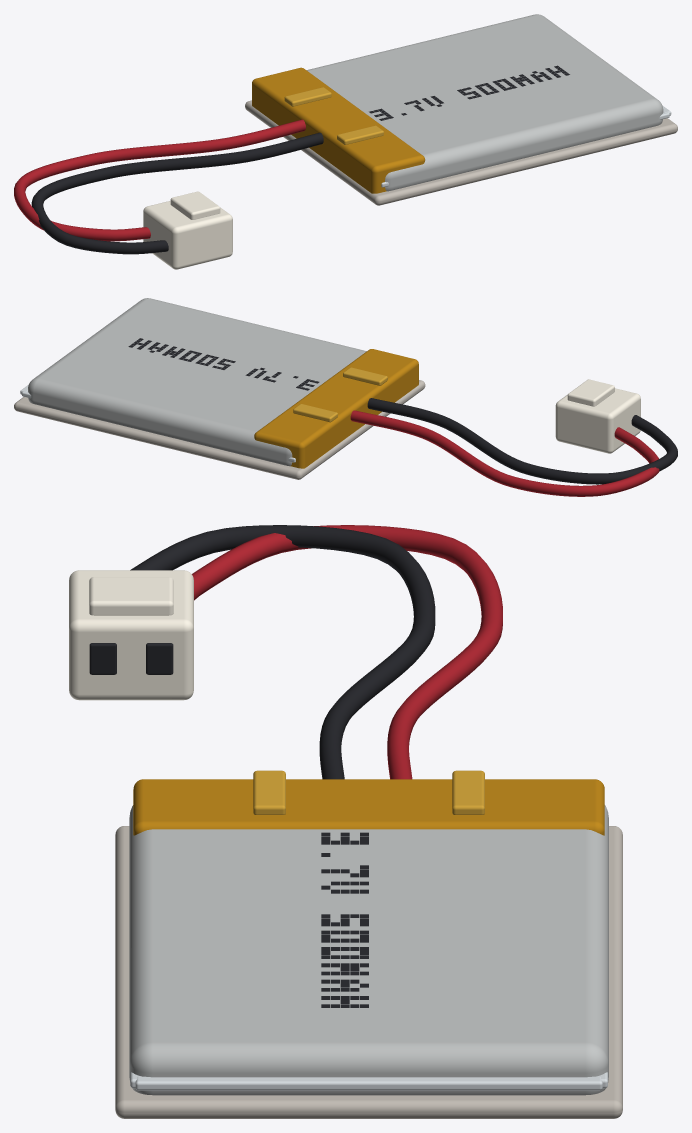
Rendered from components-28.glb.
The picture shows the model from 3 angles, top to bottom: view 1: azimuth 30°, elevation 25°; view 2: azimuth 150°, elevation 25°; view 3: azimuth 270°, elevation 25°; orthographic projection. The views are drawn at different scales.
Visible parts, largest first — view 1: pouch, leads, tabs, plug, rating; view 2: pouch, leads, tabs, plug, rating; view 3: pouch, tabs, leads, plug, rating.
Part boxes in pixels (x1,y1,x2,y2): pouch: (245,14,677,205); leads: (14,119,323,254); tabs: (252,67,425,193); plug: (143,191,232,269); rating: (369,65,569,120); pouch: (14,298,425,479); leads: (350,398,677,496); tabs: (254,349,418,468); plug: (555,379,640,453); rating: (128,338,319,390); pouch: (115,805,622,1118); tabs: (133,770,604,835); leads: (130,525,502,779); plug: (69,570,193,700); rating: (321,832,368,1007).
Size of the model in its own units: 3.24 by 0.2555 by 1.37.
